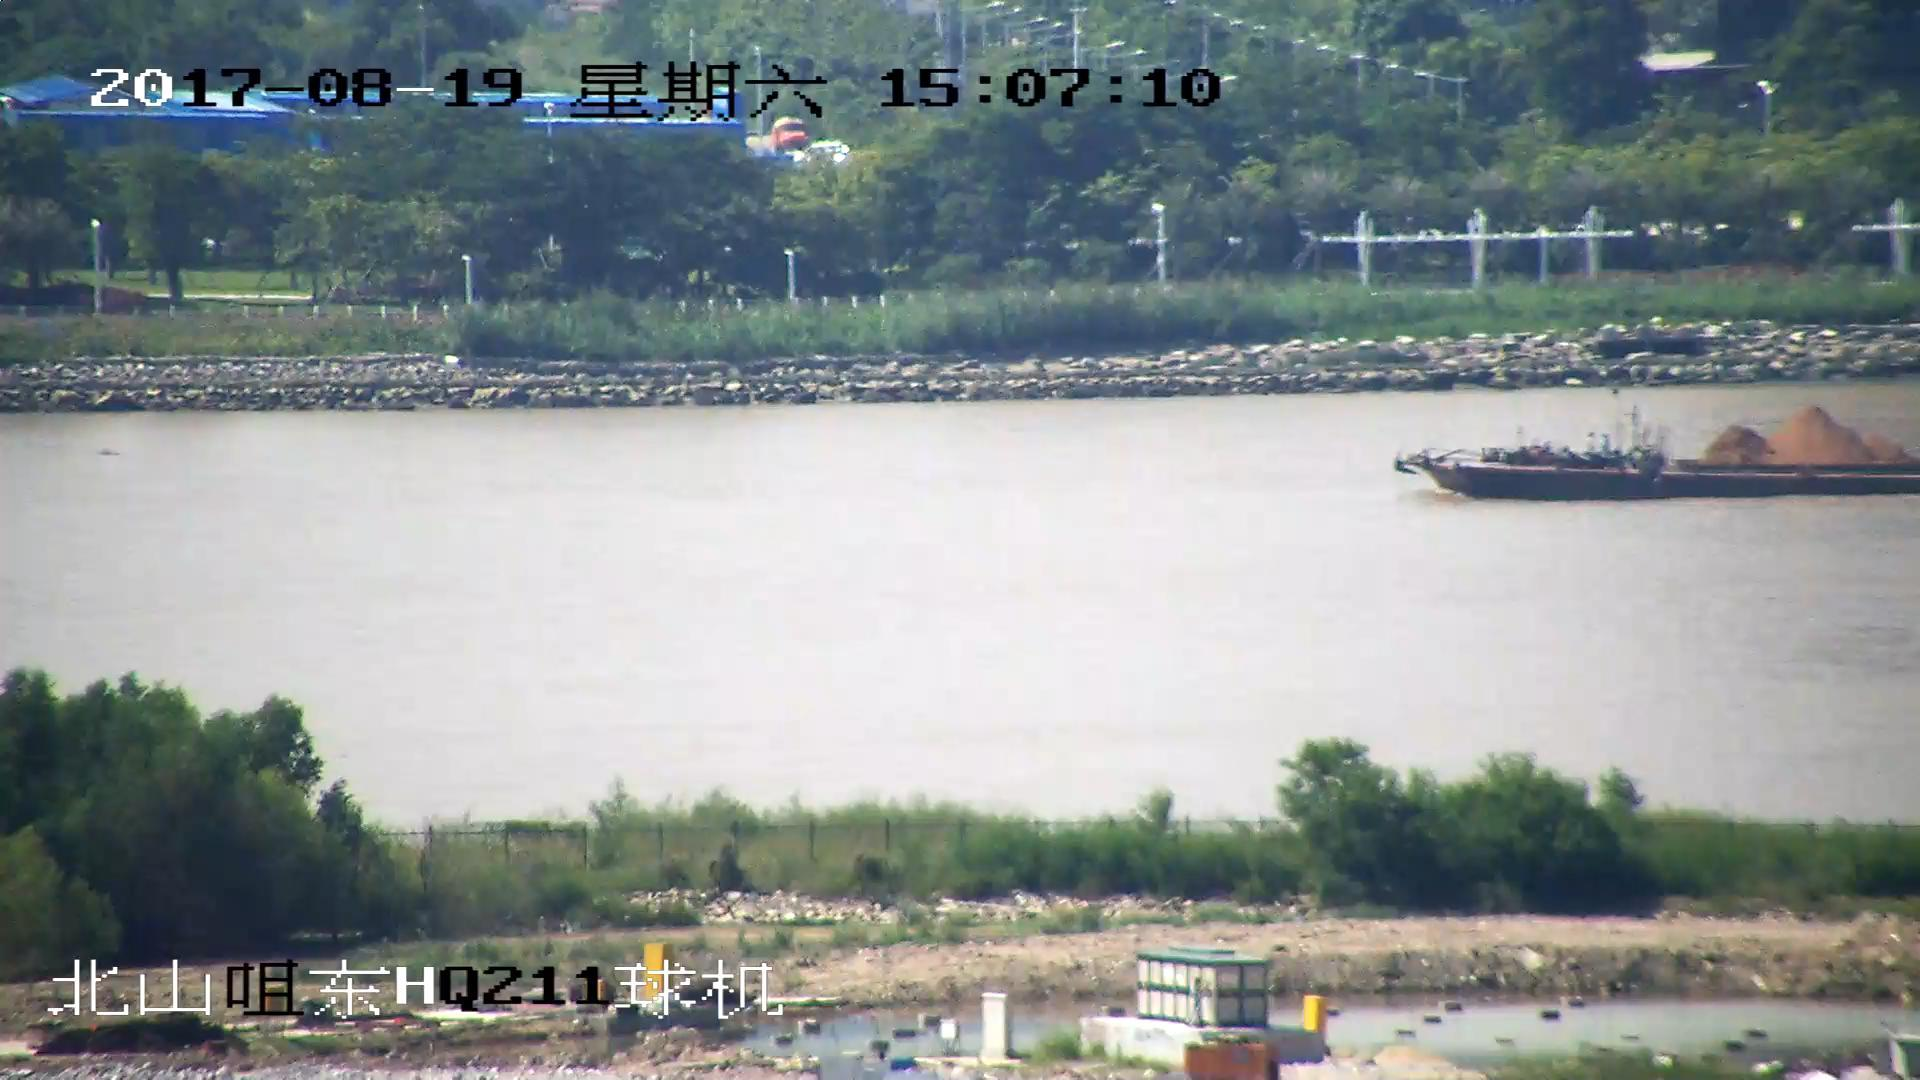Ship: (1393, 411, 1920, 502)
